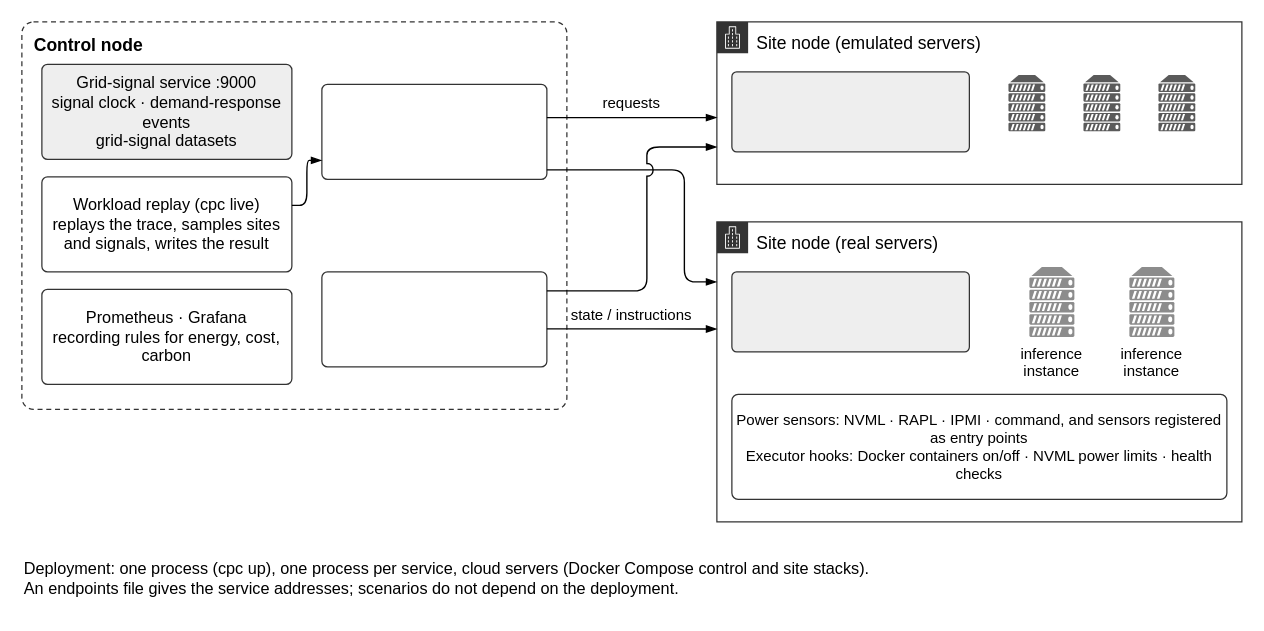
The diagram is 1264 pixels wide and 631 high, and some of its shapes have lost their labels. The shapes that lost their labels are listed below. From the top down, each one's centre as x and y in pixels, then its label:
At (434,131): "Gateway :8080 routing · retries · WAN delay injection".
At (850,111): "Site agent :9101… data-centre runtime · server model".
At (434,319): "Controller :9300 collect → decide → apply".
At (850,311): "Site agent executor hooks · sensor sampling".
